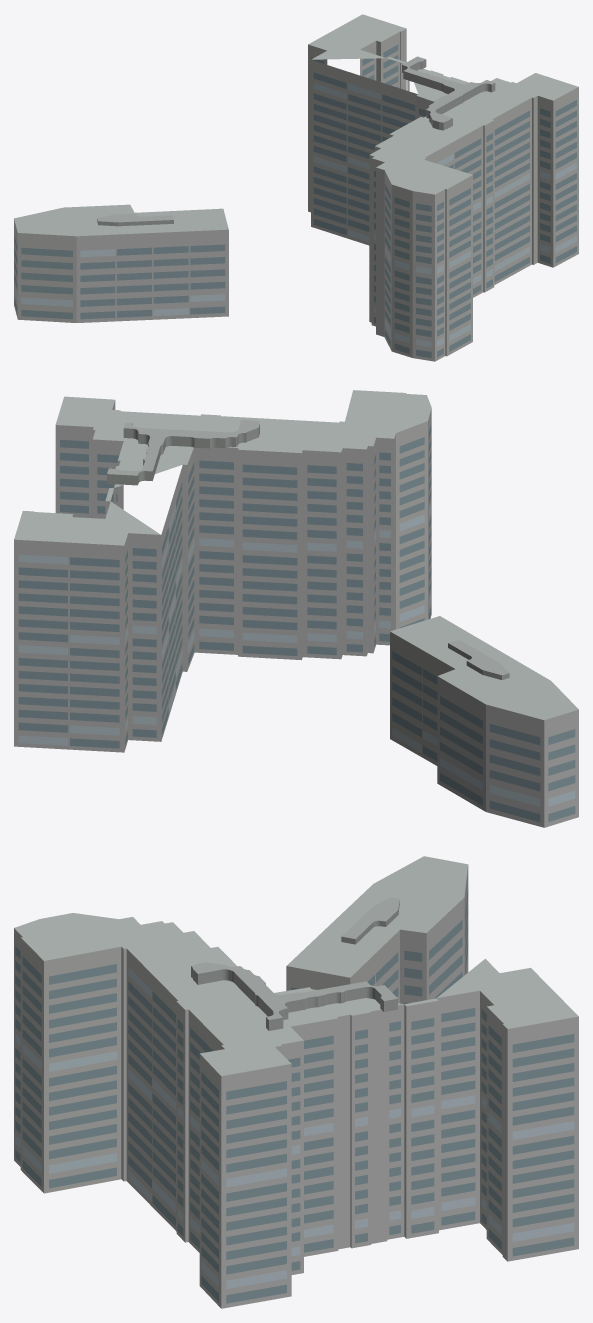
Rendered from apt-a13510201.glb.
3 views of the same model, one above another, from view 1: azimuth 30°, elevation 25°; view 2: azimuth 150°, elevation 25°; view 3: azimuth 270°, elevation 25° (orthographic). The views are drawn at different scales.
Parts seen in each view (by area): view 1: apt-a13510201; view 2: apt-a13510201; view 3: apt-a13510201.
Part boxes in pixels (bbox=[...]): apt-a13510201: bbox=[14, 14, 578, 361]; apt-a13510201: bbox=[14, 390, 578, 827]; apt-a13510201: bbox=[14, 856, 578, 1308].
Bounding box in the file's own units: 126 × 43 × 90.41.
